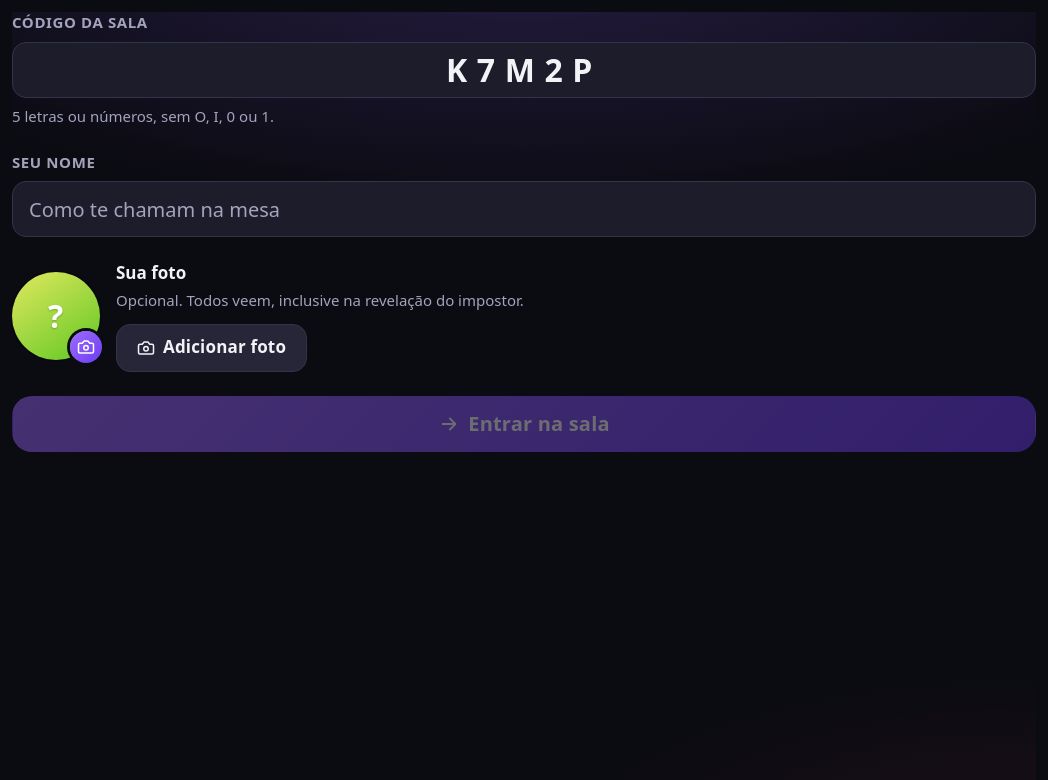
Test: JoinRoomForm › shows the message for room_full
Type "Bia" into the field labelled "Seu nome" at {"x": 524, "y": 209}, box top-left (12, 181), bottom-right (1036, 237)
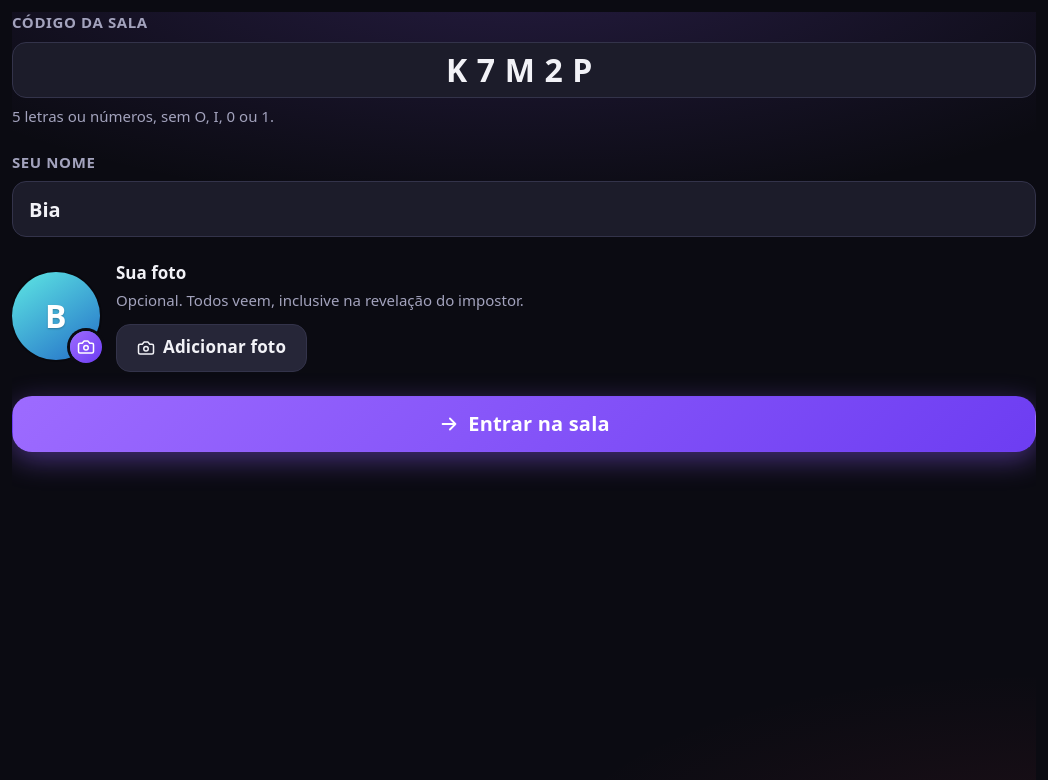
Click the button "Entrar na sala" at {"x": 524, "y": 424}, box top-left (12, 396), bottom-right (1036, 452)
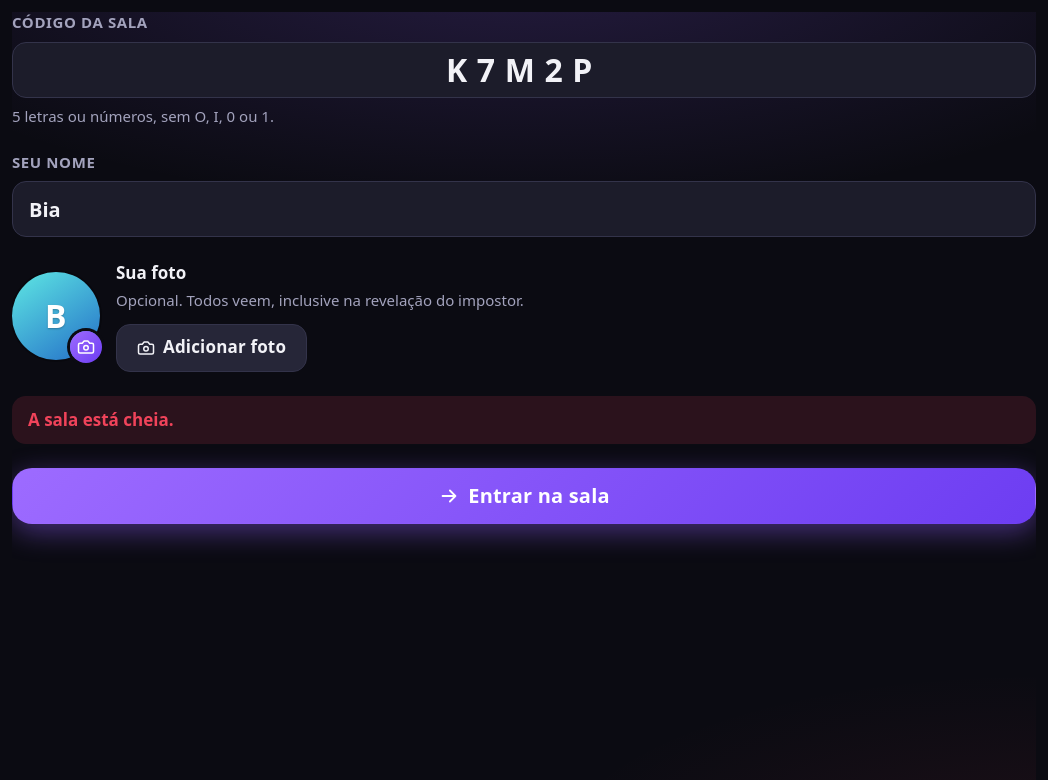
Expected: the message shows "A sala está cheia", top-left (28, 408), bottom-right (174, 431)
